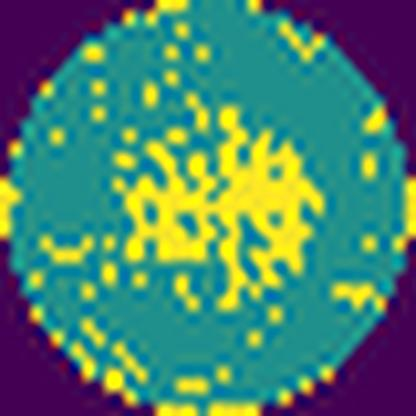Center: (124, 104, 324, 310)
